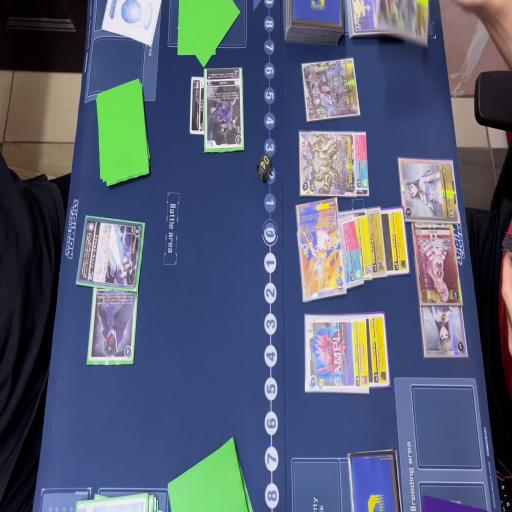card: (292, 196, 342, 306), (305, 312, 367, 396), (75, 217, 146, 289), (412, 218, 463, 306), (87, 286, 139, 372), (396, 156, 461, 224), (204, 60, 244, 157), (302, 59, 354, 128), (298, 134, 354, 196), (378, 0, 445, 43), (420, 304, 469, 358), (364, 308, 394, 394), (383, 202, 406, 288), (368, 200, 388, 285), (354, 206, 374, 290), (338, 215, 358, 294), (354, 130, 374, 198), (348, 0, 379, 40), (190, 77, 210, 137)
